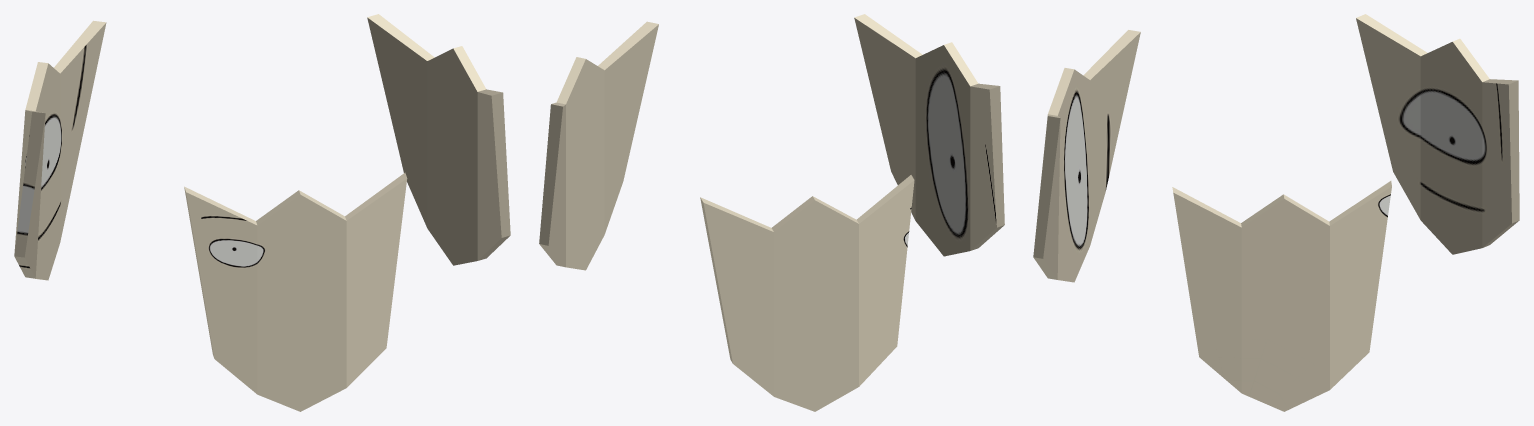
Rendered from escudo.obj.
The picture shows the model from 3 angles, left to right: view 1: azimuth 30°, elevation 25°; view 2: azimuth 150°, elevation 25°; view 3: azimuth 270°, elevation 25°; orthographic projection. The views are drawn at different scales.
Parts seen in each view (by area): view 1: ESCUDO_Cube.003; view 2: ESCUDO_Cube.003; view 3: ESCUDO_Cube.003.
Boxes of the visible parts, <box> form: ESCUDO_Cube.003: <box>14,14,510,411</box>; ESCUDO_Cube.003: <box>539,14,1004,411</box>; ESCUDO_Cube.003: <box>1033,14,1519,411</box>.
Size of the model in its own units: 1.93 by 1.02 by 2.11.
Materials: 1 (1 with a texture image).
